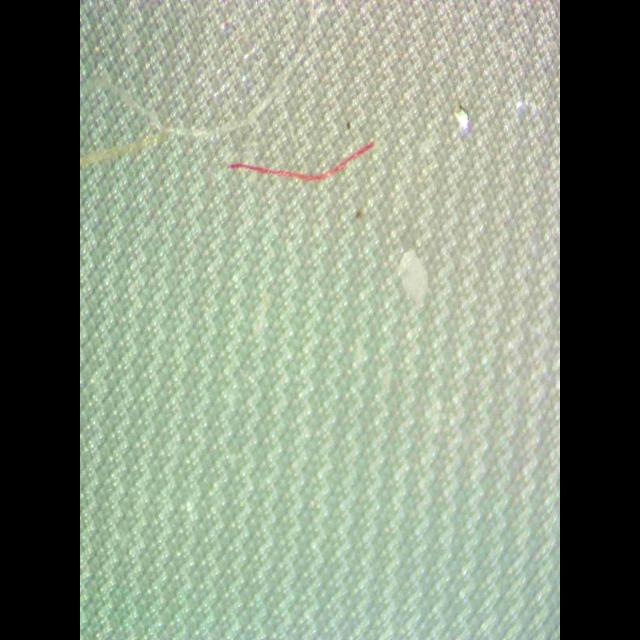Fibre: (227, 134, 377, 193)
